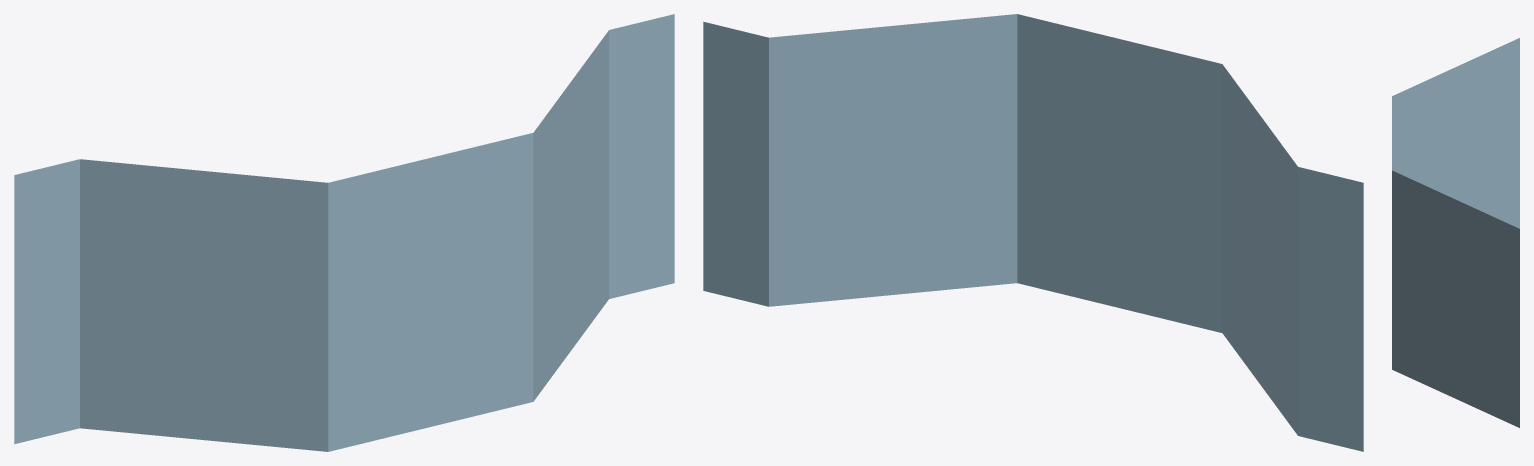
The model's file is FairyTale132.gltf.
3 renders of one model, left to right at view 1: azimuth 30°, elevation 25°; view 2: azimuth 150°, elevation 25°; view 3: azimuth 270°, elevation 25°, orthographic. The views are drawn at different scales.
Parts seen in each view (by area): view 1: 网格281; view 2: 网格281; view 3: 网格281.
Part boxes in pixels (x1,y1,x2,y2): 网格281: [14, 14, 674, 451]; 网格281: [703, 14, 1363, 451]; 网格281: [1392, 38, 1519, 427].
Size of the model in its own units: 3.15 by 1.23 by 0.7128.
